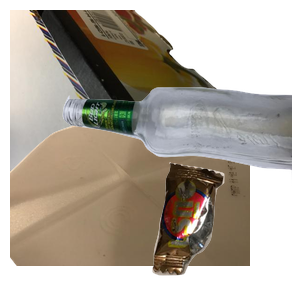cardboard: (10, 10, 238, 190)
glass: (60, 84, 300, 260)
plastic: (10, 120, 250, 300)
trash: (150, 160, 300, 300)
